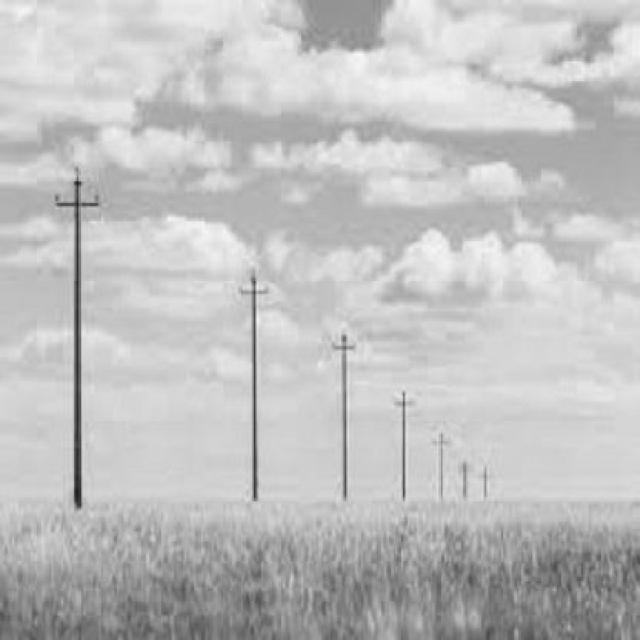Pole: (55, 166, 99, 508), (333, 334, 355, 499), (252, 270, 258, 501)
